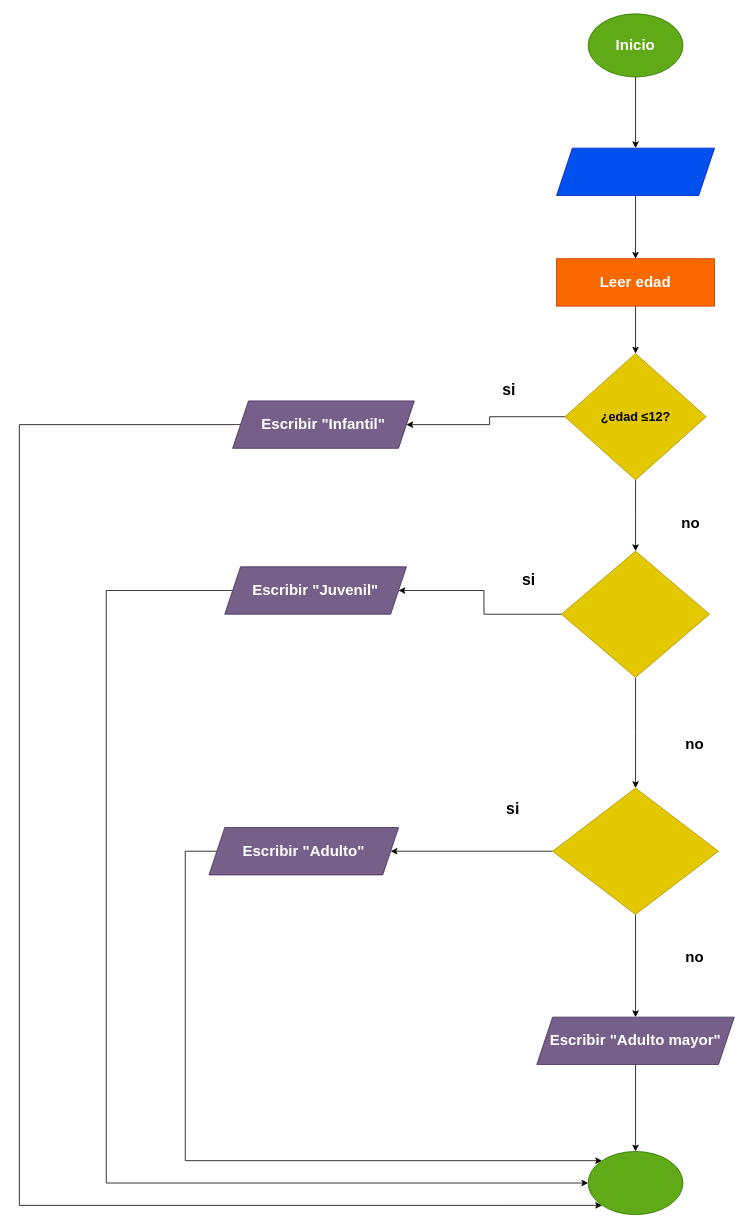
This 748x1228 diagram has some shape labels left out. Each missing label, with the centre of its shape:
Digite la edad: the point at 635,171
Fin: the point at 635,1183
¿edad ≤17?: the point at 635,613
¿edad ≤59?: the point at 635,850
